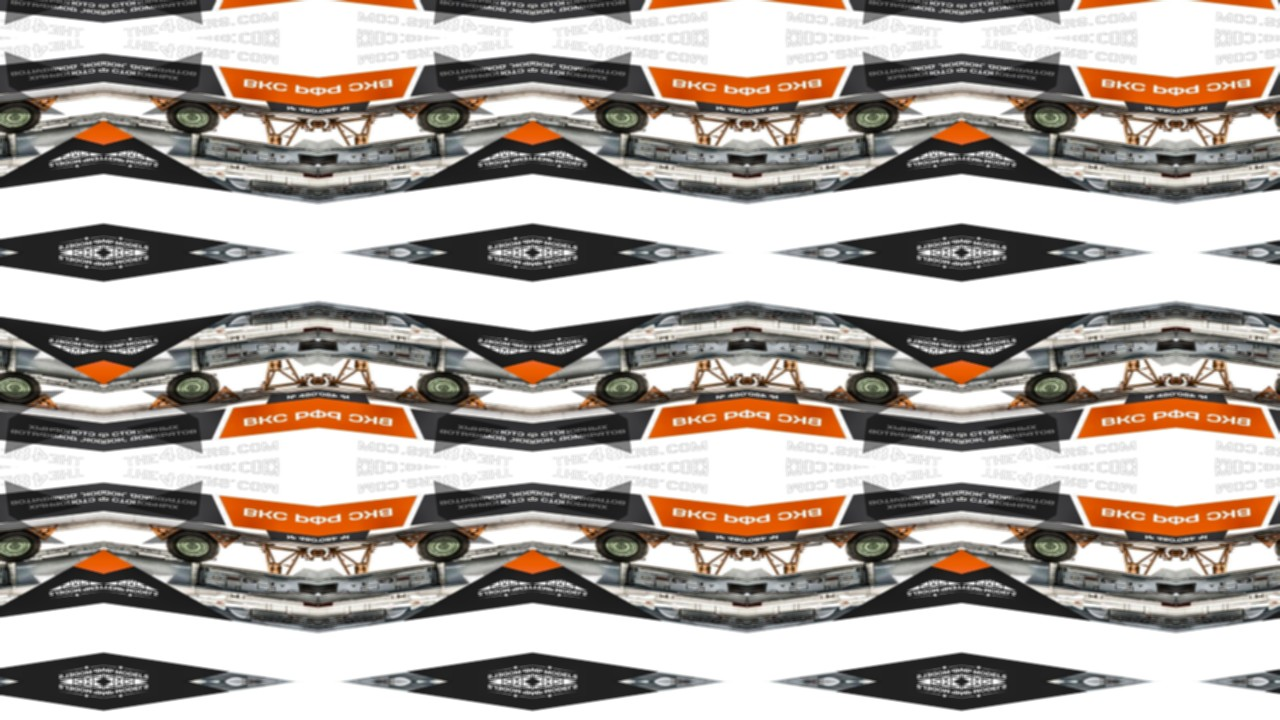chock: (204, 101, 241, 121), (395, 101, 432, 121), (633, 101, 670, 121), (824, 101, 861, 121), (1063, 101, 1100, 121), (204, 384, 241, 404), (395, 384, 432, 404), (633, 384, 670, 404), (824, 384, 861, 404), (1063, 384, 1100, 404), (204, 531, 241, 550), (395, 531, 432, 550), (633, 531, 670, 550), (824, 531, 861, 550), (1063, 531, 1100, 550), (25, 95, 60, 114), (146, 95, 181, 114), (884, 95, 919, 114), (1005, 95, 1040, 114), (25, 391, 60, 410), (146, 391, 181, 410), (884, 391, 919, 410), (1005, 391, 1040, 410), (25, 524, 60, 543), (146, 524, 181, 543), (884, 524, 919, 543), (1005, 524, 1040, 543), (455, 95, 489, 114), (576, 95, 610, 114), (455, 391, 489, 410), (576, 391, 610, 410), (455, 524, 489, 543), (576, 524, 610, 543), (1254, 101, 1280, 121), (1254, 384, 1280, 404), (1254, 531, 1280, 550), (0, 101, 2, 121), (0, 384, 2, 404), (0, 531, 2, 550)
wheel: (162, 98, 223, 138), (413, 98, 474, 138), (591, 98, 652, 138), (842, 98, 903, 138), (1021, 98, 1082, 138), (162, 367, 223, 407), (413, 367, 474, 407), (591, 367, 652, 407), (842, 367, 903, 407), (1021, 367, 1082, 407), (162, 527, 223, 567), (413, 527, 474, 567), (591, 527, 652, 567), (842, 527, 903, 567), (1021, 527, 1082, 567), (0, 98, 44, 138), (0, 367, 44, 407), (0, 527, 44, 567), (1272, 98, 1280, 138), (1272, 367, 1280, 407), (1272, 527, 1280, 567), (308, 549, 318, 559), (747, 549, 757, 559), (1167, 549, 1177, 559), (308, 120, 318, 129), (747, 120, 757, 129), (1167, 120, 1177, 129), (308, 376, 318, 385), (747, 376, 757, 385), (1167, 376, 1177, 385), (318, 549, 327, 559), (738, 549, 747, 559), (1177, 549, 1186, 559), (318, 120, 327, 129), (738, 120, 747, 129), (1177, 120, 1186, 129), (318, 376, 327, 385), (738, 376, 747, 385), (1177, 376, 1186, 385)
